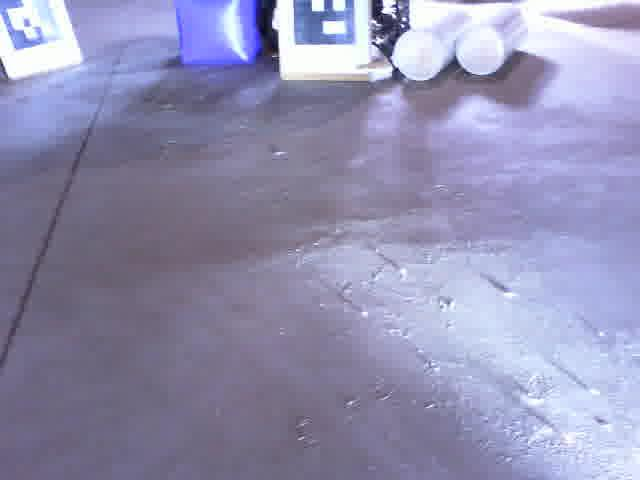coral: (393, 6, 471, 81), (455, 6, 528, 75)
